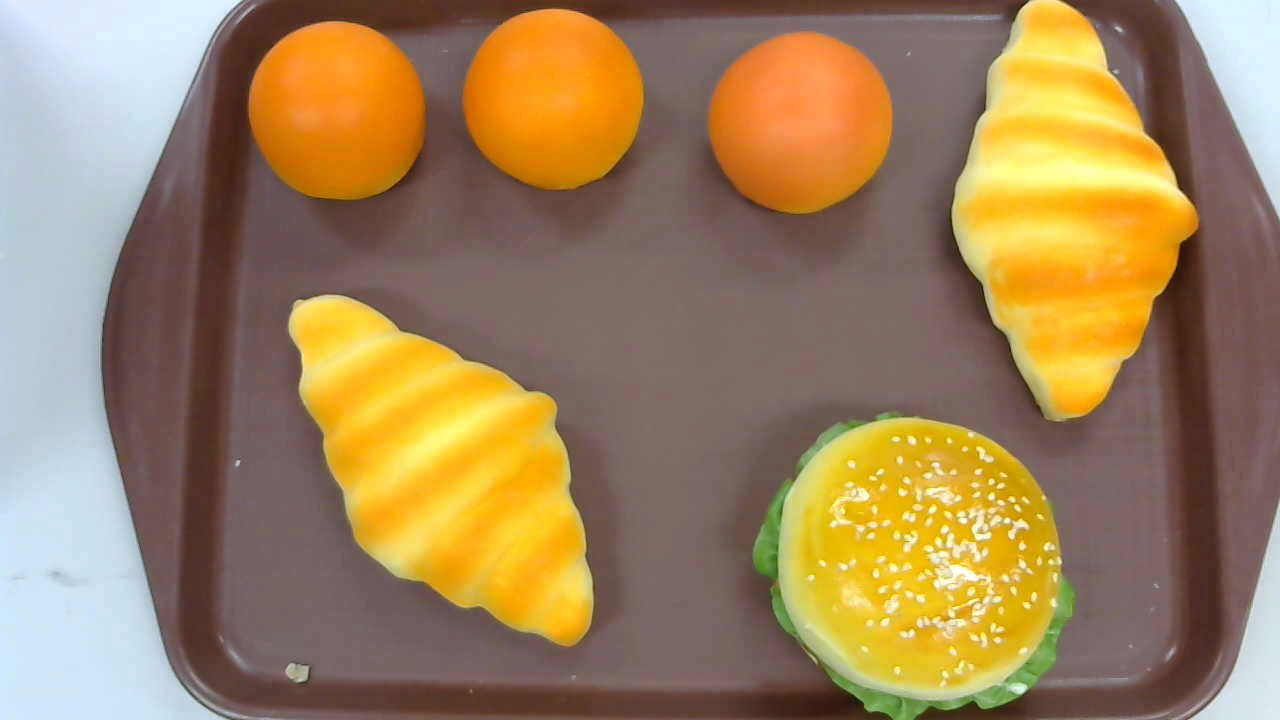bun: (462, 7, 646, 192), (709, 32, 893, 214), (247, 21, 425, 200)
croissant: (287, 291, 595, 647), (951, 1, 1200, 424)
hamburger: (753, 409, 1076, 720)
